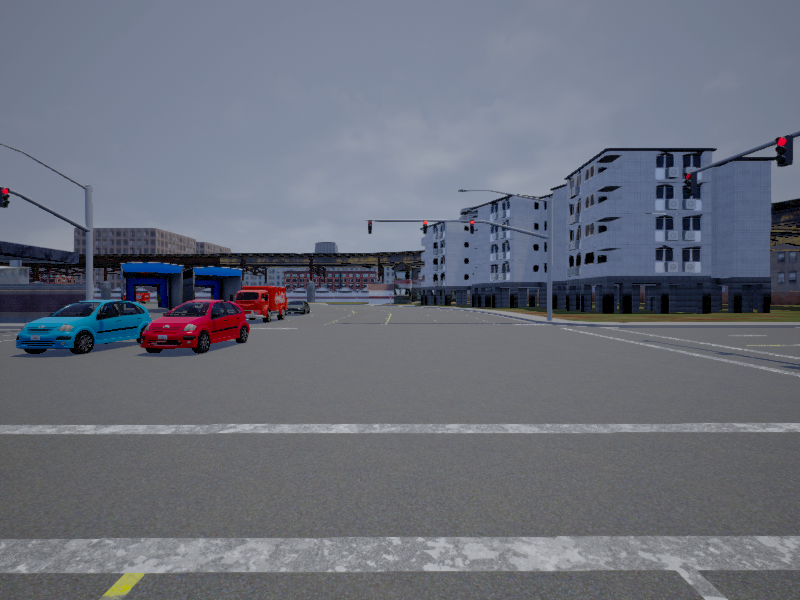Benign: (22, 297, 154, 353), (140, 297, 253, 351), (229, 288, 288, 321), (288, 301, 312, 315)
